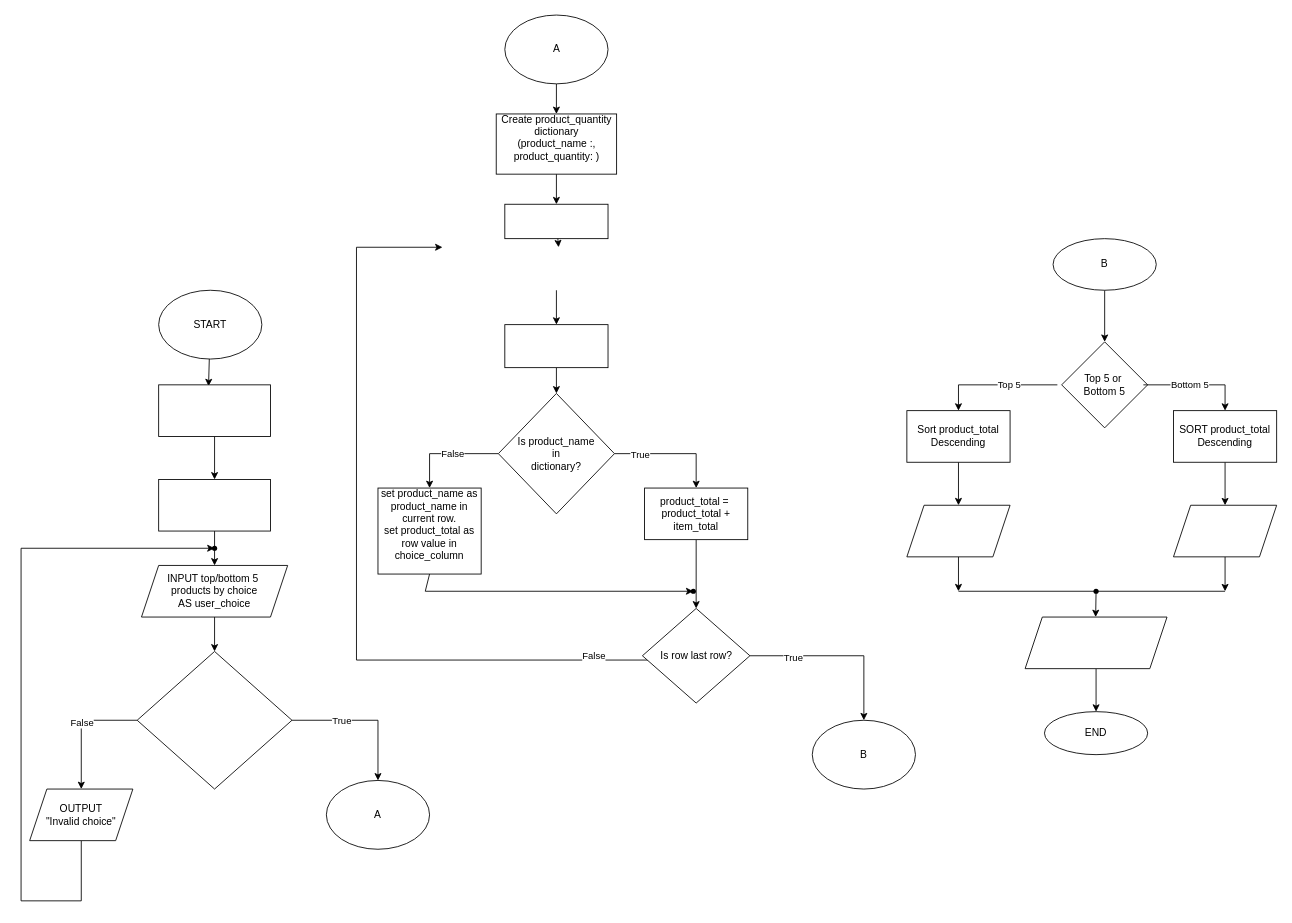
Some shapes in this 1292 by 923 pixel diagram are drawn without their labels. The shapes that lost their labels are listed below. From the top down, each one's centre as x and y in pixels, then its label:
(556,221): Set row = 1
(556,346): Read row in csv
(214,410): loadCsv (sales.csv)
(214,505): Get headers from Csv
(958,530): DISPLAY "Top 5:"
(1225,530): DISPLAY "Bottom 5:"
(1095,642): DISPLAY first 5 outputs
(214,720): user_choice in headers AND (user_choice does not contain "Product")?
